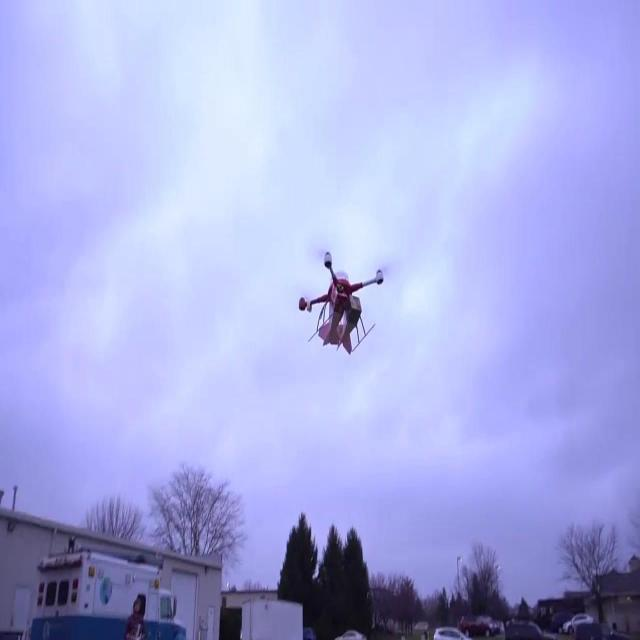UAV: (298, 252, 384, 356)
